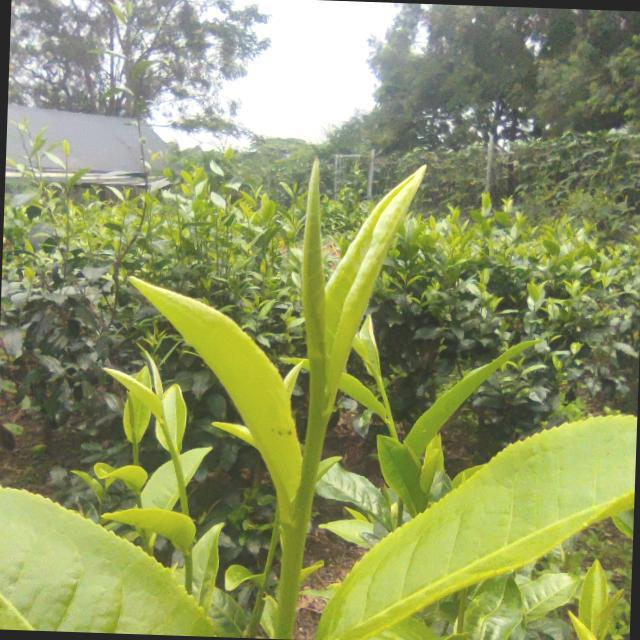Stem: (300, 417, 329, 476), (160, 422, 171, 441), (377, 382, 387, 400)
